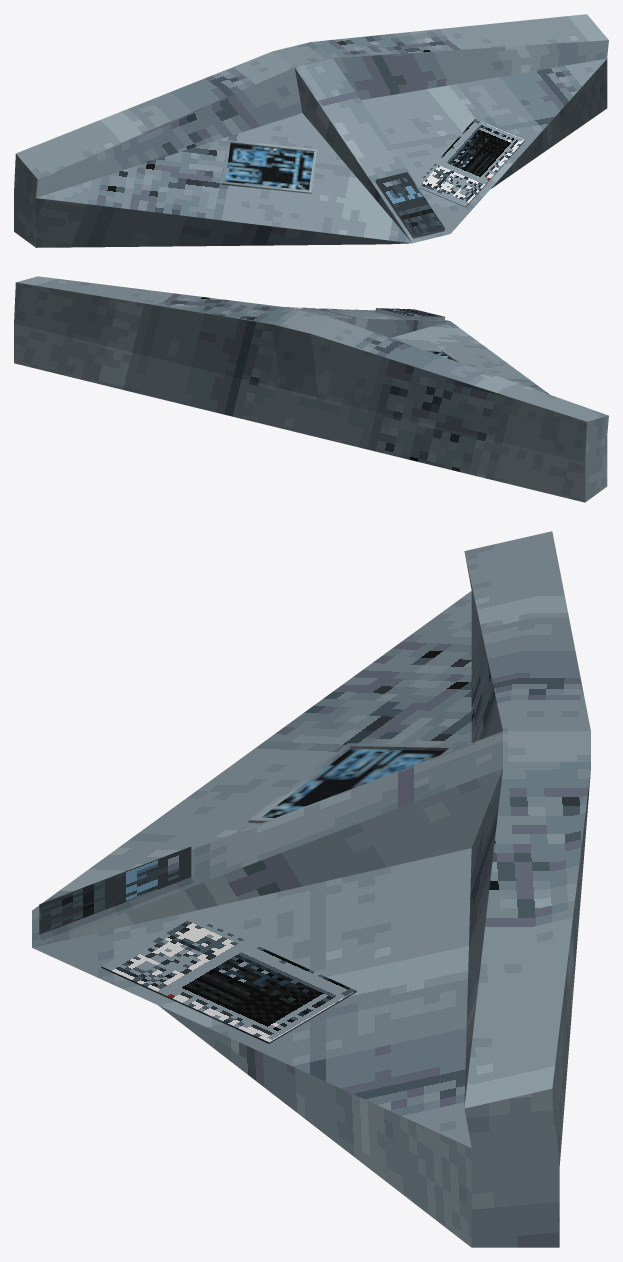
Rendered from BridgeComputer.fbx.
The picture shows the model from 3 angles, top to bottom: view 1: azimuth 30°, elevation 25°; view 2: azimuth 150°, elevation 25°; view 3: azimuth 270°, elevation 25°; orthographic projection. The views are drawn at different scales.
Parts seen in each view (by area): view 1: Console; view 2: Console; view 3: Console.
Boxes of the visible parts, x1,y1,x2,y2 form: Console: (14, 14, 608, 247); Console: (14, 276, 608, 502); Console: (32, 531, 590, 1247).
Bounding box in the file's own units: 571 × 242 × 105.
5 materials, 5 textured.
